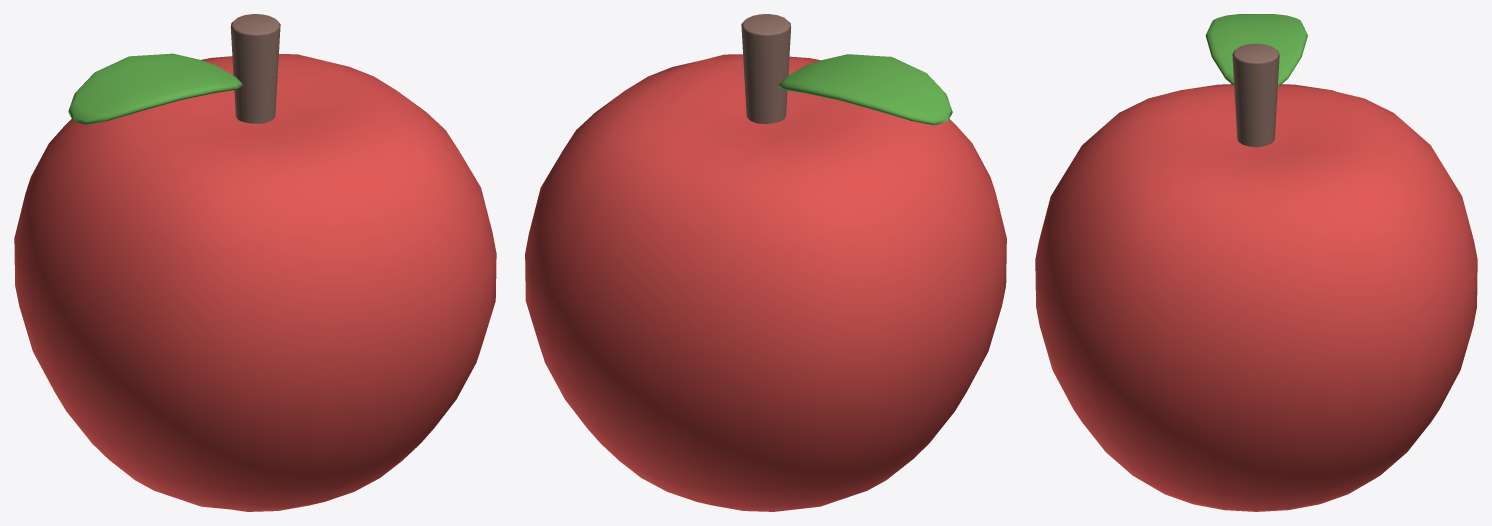
File: Apple_Red.fbx
3 views of the same model, side by side, from view 1: azimuth 30°, elevation 25°; view 2: azimuth 150°, elevation 25°; view 3: azimuth 270°, elevation 25° (orthographic). The views are drawn at different scales.
Parts seen in each view (by area): view 1: Apple_Red; view 2: Apple_Red; view 3: Apple_Red.
Part boxes in pixels (box(x1,y1,x2,y2)): Apple_Red: box(14, 14, 496, 511); Apple_Red: box(525, 14, 1006, 511); Apple_Red: box(1035, 14, 1477, 511).
Bounding box in the file's own units: 13.45 × 14.27 × 13.45.
